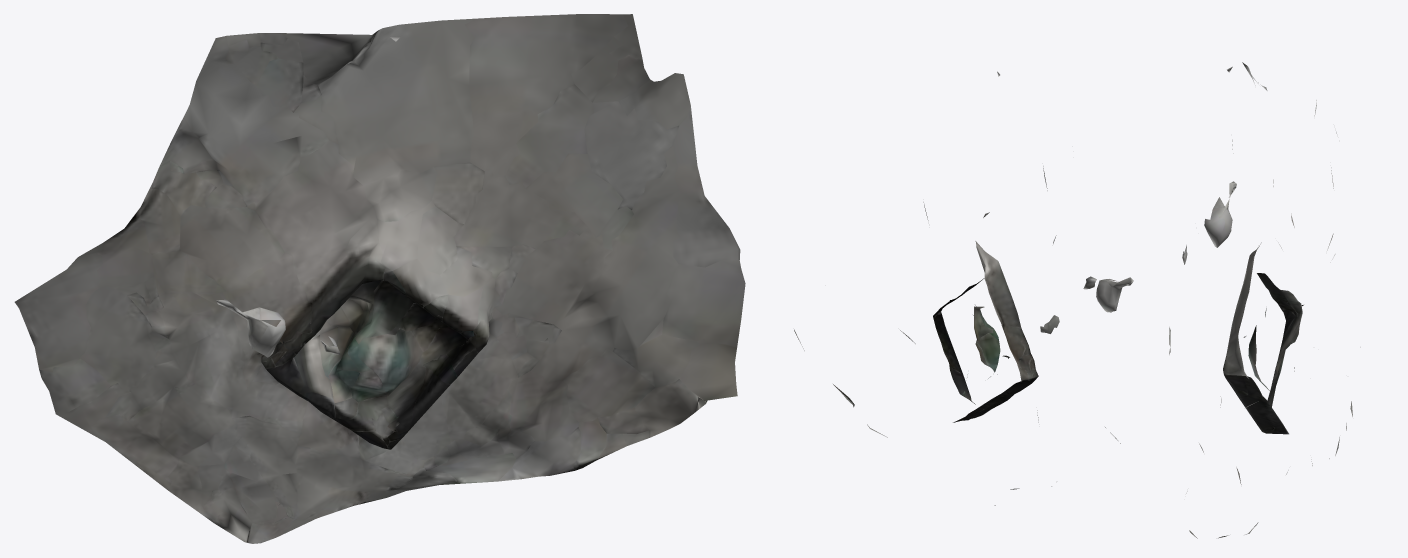
File: hall.glb
The picture shows the model from 3 angles, left to right: view 1: azimuth 30°, elevation 25°; view 2: azimuth 150°, elevation 25°; view 3: azimuth 270°, elevation 25°; orthographic projection. The views are drawn at different scales.
Size of the model in its own units: 2.57 by 2.22 by 1.01.
1 material, 1 textured.
